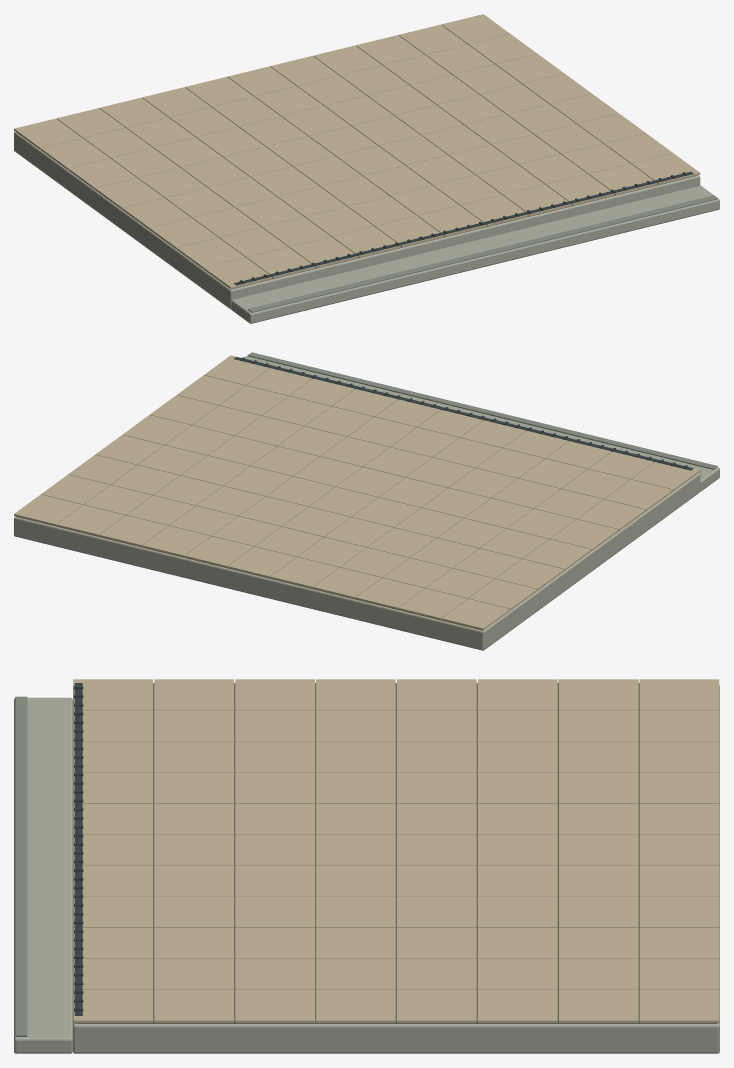
3 views of the same model, one above another, from view 1: azimuth 30°, elevation 25°; view 2: azimuth 150°, elevation 25°; view 3: azimuth 270°, elevation 25° (orthographic). The views are drawn at different scales.
Parts seen in each view (by area): view 1: PORCH_Step, PORCH_Foundation, PORCH_StepNosing, DRAIN_Channel, TILE_00_01, TILE_00_05, TILE_00_03, TILE_00_04, TILE_00_06, TILE_00_02, TILE_00_07, TILE_09_02 (+80 smaller); view 2: PORCH_Foundation, PORCH_StepNosing, PORCH_Step, DRAIN_Channel, TILE_00_07, TILE_04_07, TILE_01_07, TILE_05_07, TILE_08_07, TILE_10_07, TILE_02_07, TILE_03_07 (+80 smaller); view 3: PORCH_Foundation, PORCH_Step, PORCH_GroutBed, PORCH_StepNosing, TILE_10_06, TILE_10_07, TILE_10_01, TILE_10_02, TILE_10_03, TILE_10_04, TILE_10_05, TILE_02_06 (+81 smaller).
Part boxes in pixels (x1,y1,x2,y2): PORCH_Step: [231, 185, 719, 323]; PORCH_Foundation: [14, 131, 700, 309]; PORCH_StepNosing: [248, 195, 717, 312]; DRAIN_Channel: [234, 171, 693, 285]; TILE_00_01: [177, 237, 245, 269]; TILE_00_05: [68, 158, 136, 189]; TILE_00_03: [122, 198, 191, 229]; TILE_00_04: [95, 178, 163, 209]; TILE_00_06: [41, 138, 109, 169]; TILE_00_02: [149, 218, 218, 249]; TILE_00_07: [14, 118, 82, 149]; TILE_09_02: [534, 124, 603, 154]; PORCH_Foundation: [14, 473, 700, 650]; PORCH_StepNosing: [248, 352, 717, 469]; PORCH_Step: [245, 354, 719, 491]; DRAIN_Channel: [234, 357, 693, 470]; TILE_00_07: [441, 598, 510, 630]; TILE_04_07: [270, 557, 339, 588]; TILE_01_07: [398, 588, 467, 619]; TILE_05_07: [227, 546, 296, 578]; TILE_08_07: [99, 515, 167, 546]; TILE_10_07: [14, 494, 82, 525]; TILE_02_07: [356, 578, 424, 609]; TILE_03_07: [313, 567, 381, 598]; PORCH_Foundation: [73, 685, 719, 1053]; PORCH_Step: [14, 697, 72, 1053]; PORCH_GroutBed: [75, 683, 716, 1023]; PORCH_StepNosing: [15, 696, 27, 1036]; TILE_10_06: [558, 990, 638, 1023]; TILE_10_07: [639, 990, 719, 1023]; TILE_10_01: [154, 990, 233, 1023]; TILE_10_02: [235, 990, 314, 1023]; TILE_10_03: [316, 990, 395, 1023]; TILE_10_04: [397, 990, 476, 1023]; TILE_10_05: [478, 990, 557, 1023]; TILE_02_06: [558, 741, 638, 772].
Bounding box in the file's own units: 5.5 × 0.268 × 4.8.
